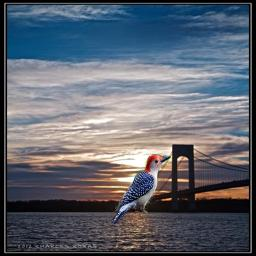Woodpecker: (111, 154, 171, 224)
